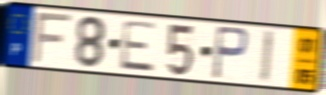5: (165, 21, 197, 78)
8: (73, 14, 107, 70)
E: (118, 19, 159, 75)
F: (30, 12, 75, 66)
I: (258, 28, 276, 85)
P: (210, 24, 251, 82)
